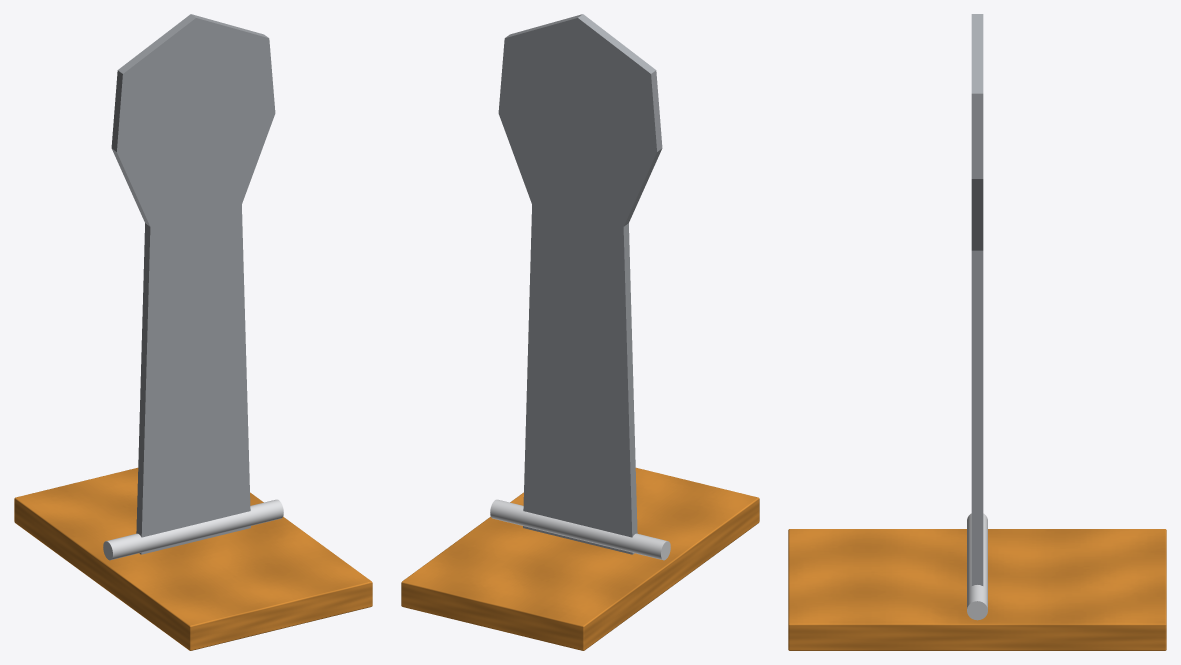
File: fps-weapon-set-and-firing-range-steel-popper-7447d855__19496.glb
3 views of the same model, side by side, from view 1: azimuth 30°, elevation 25°; view 2: azimuth 150°, elevation 25°; view 3: azimuth 270°, elevation 25° (orthographic). The views are drawn at different scales.
Parts seen in each view (by area): view 1: popper, steel-popper; view 2: popper, steel-popper; view 3: steel-popper, popper.
Part boxes in pixels (x1,y1,x2,y2): popper: (111, 14, 275, 554); steel-popper: (14, 467, 372, 650); popper: (498, 14, 662, 554); steel-popper: (401, 467, 759, 650); steel-popper: (788, 513, 1166, 650); popper: (971, 14, 983, 585).
Bounding box in the file's own units: 0.3 × 0.86 × 0.5.
3 materials, 1 textured.
